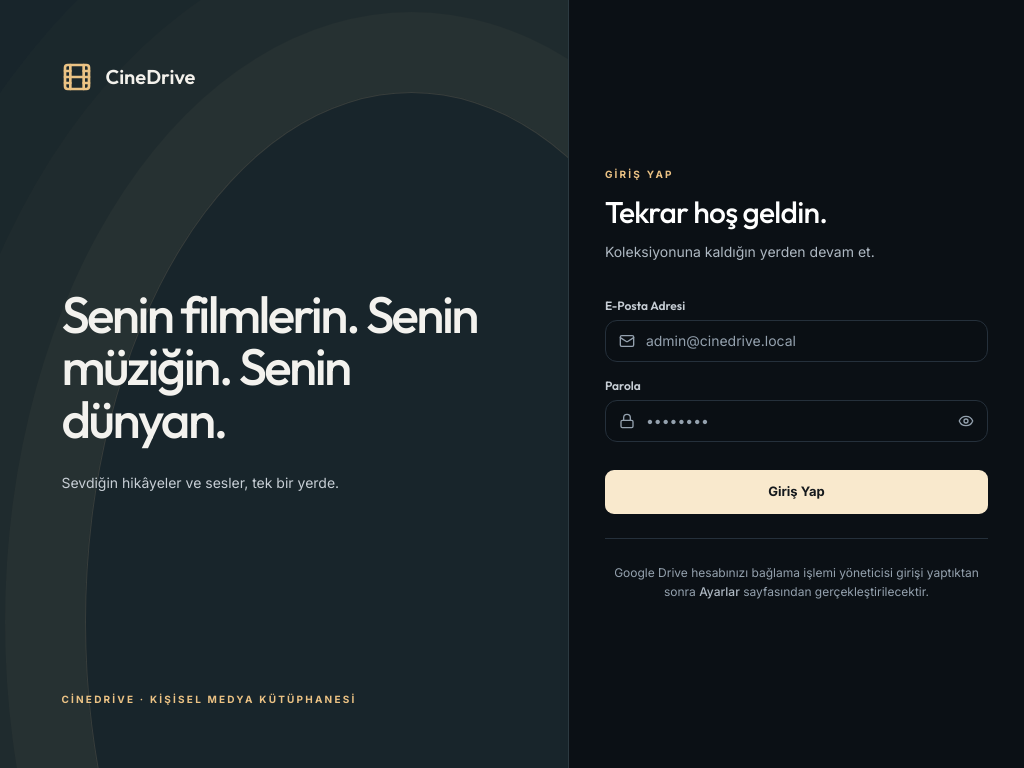
LoginPage Component › shows invalid credentials without verifying or navigating
Type "qa@example.com" into the field with placeholder "admin@cinedrive.local" at [796, 340], box [605,320,988,362]
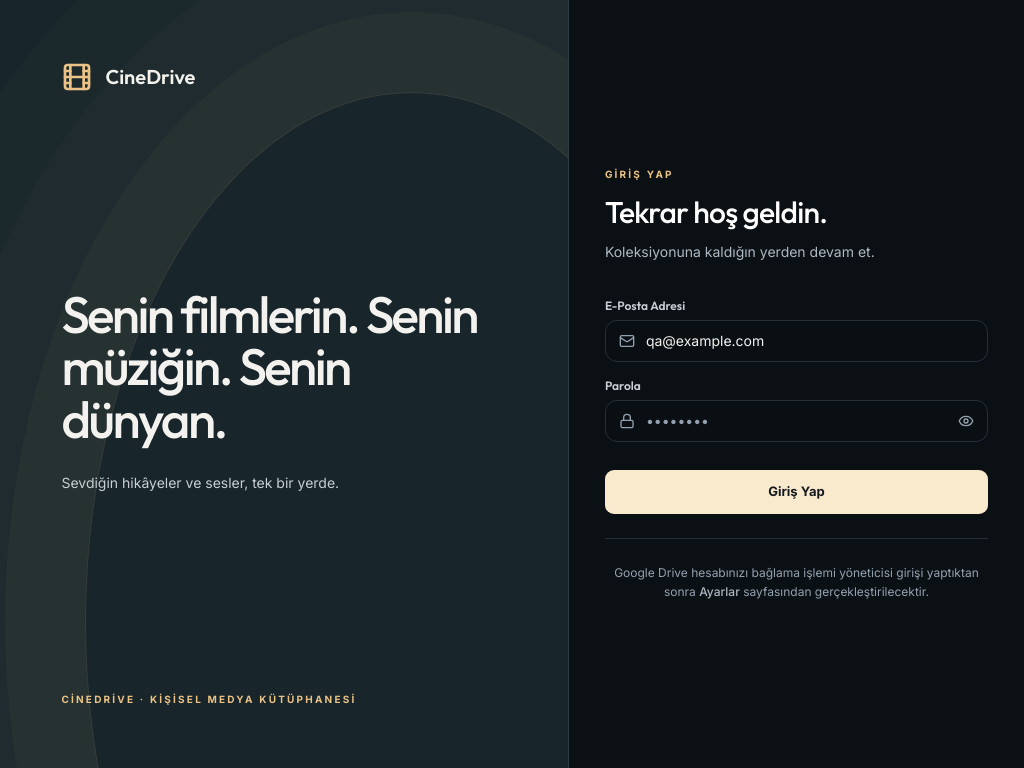
Type "password123" into the password field with placeholder "••••••••" at [796, 420], box [605,400,988,442]
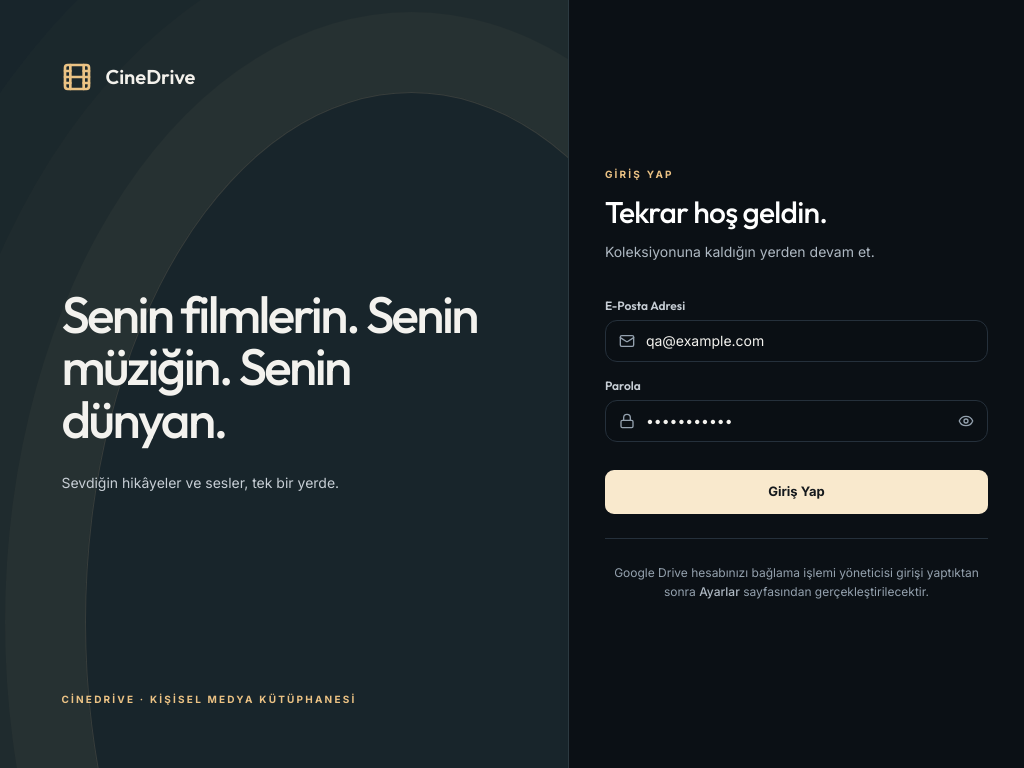
Click the button "Giriş Yap" at [796, 492], box [605,470,988,514]
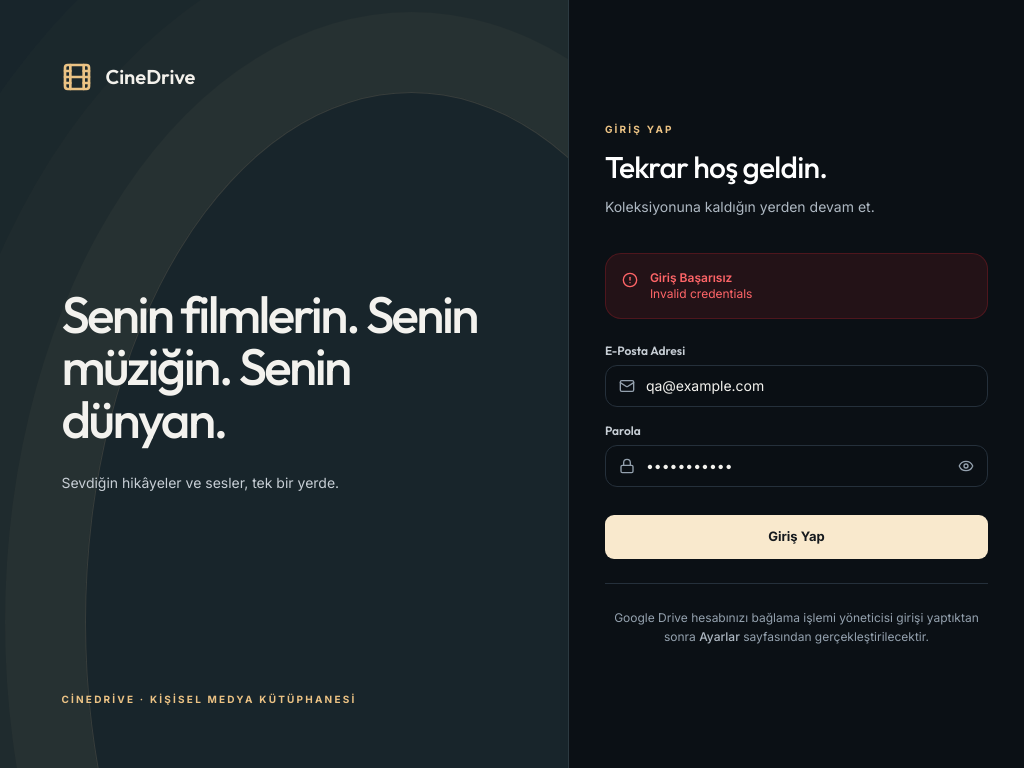
Expected: the message shows "Invalid credentials", [650,286,752,300]
